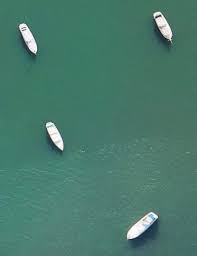ship: (125, 210, 161, 243), (14, 19, 43, 58), (149, 9, 177, 45), (43, 119, 68, 152)
